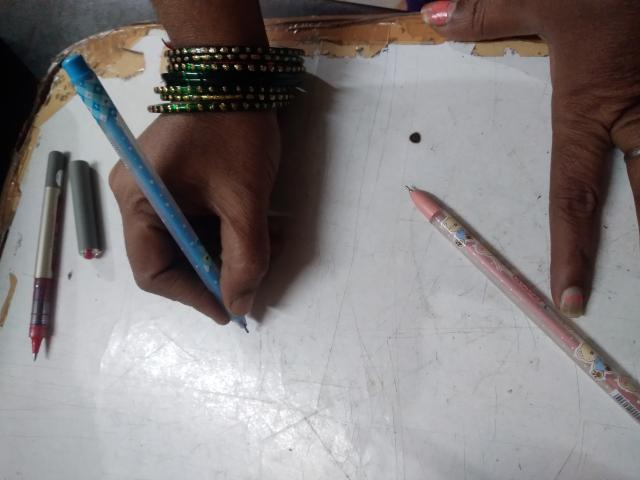PEN: (127, 60, 459, 278), (15, 380, 300, 480), (116, 16, 333, 102)
